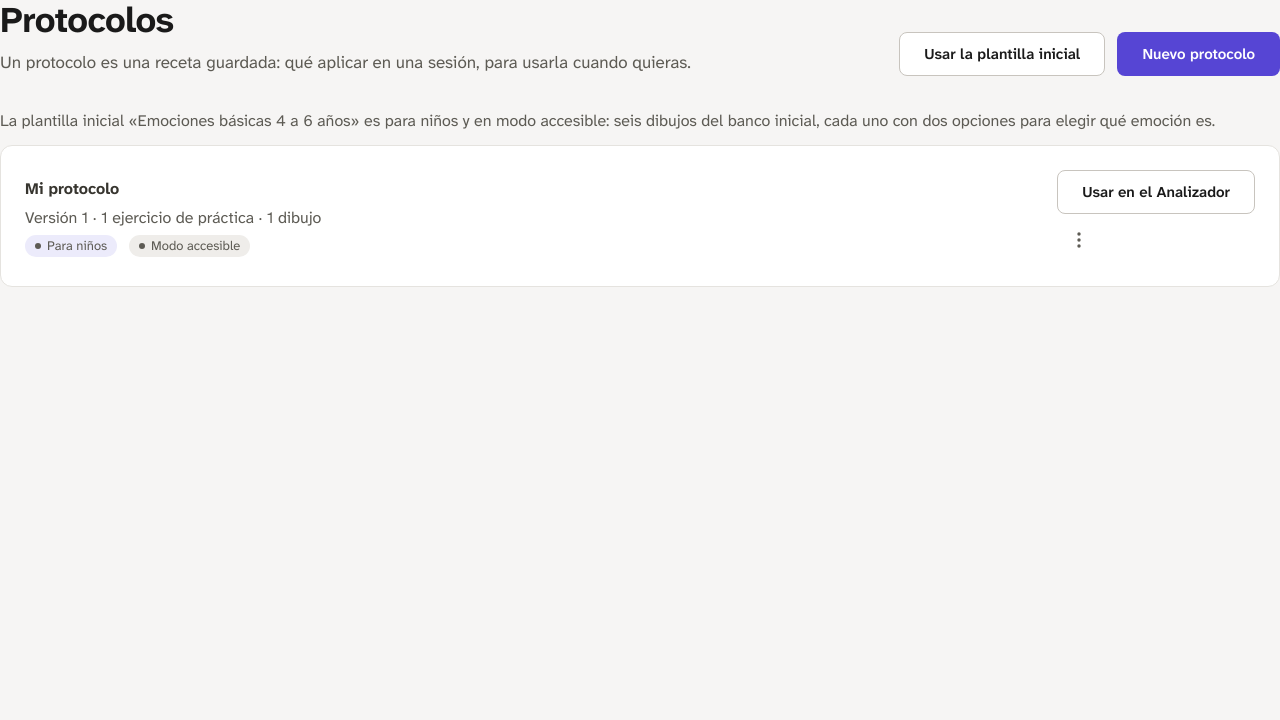
Test: menú de tres puntos de un protocolo › eliminar pide confirmación y avisa que las sesiones conservan su registro
What coordinates should you click on to do the following:
click the button named "Más acciones para «Mi protocolo»"
I would click on:
 (1079, 240)
Its box is x1=1057 y1=218 x2=1101 y2=262.
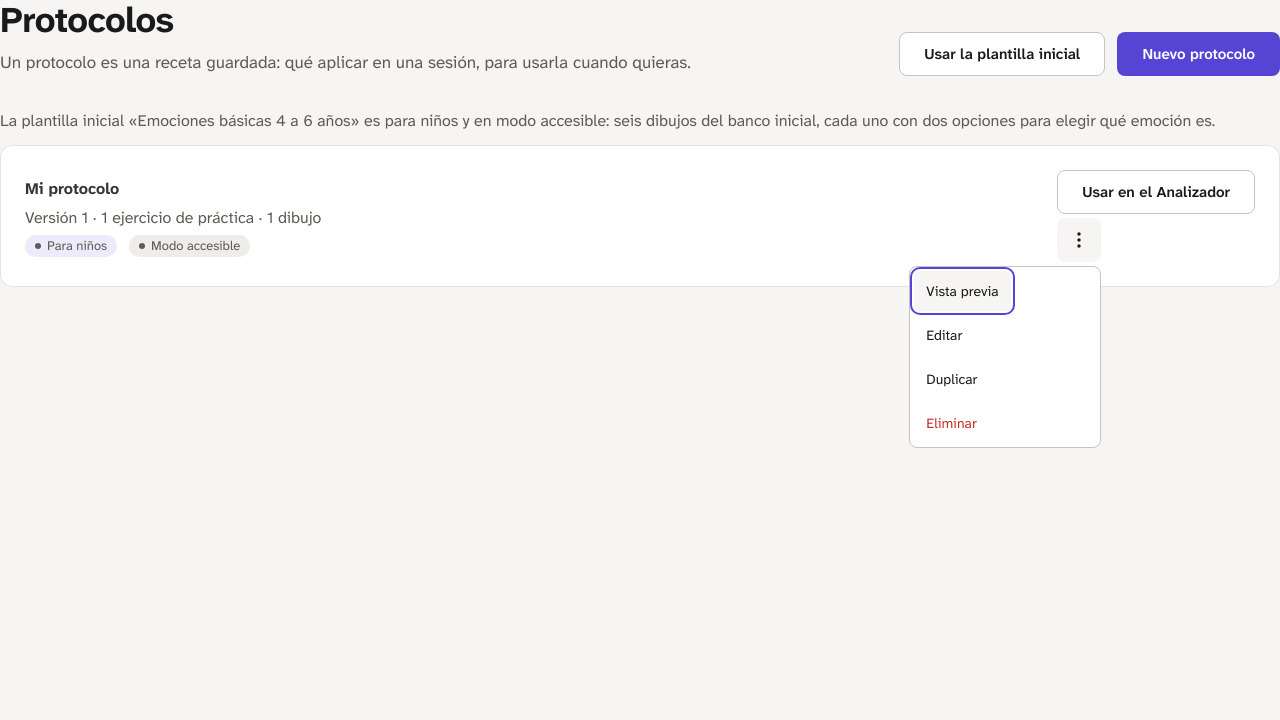
What coordinates should you click on to do the following:
click the menu item "Eliminar"
I would click on:
 (952, 423)
Its box is x1=914 y1=403 x2=989 y2=443.
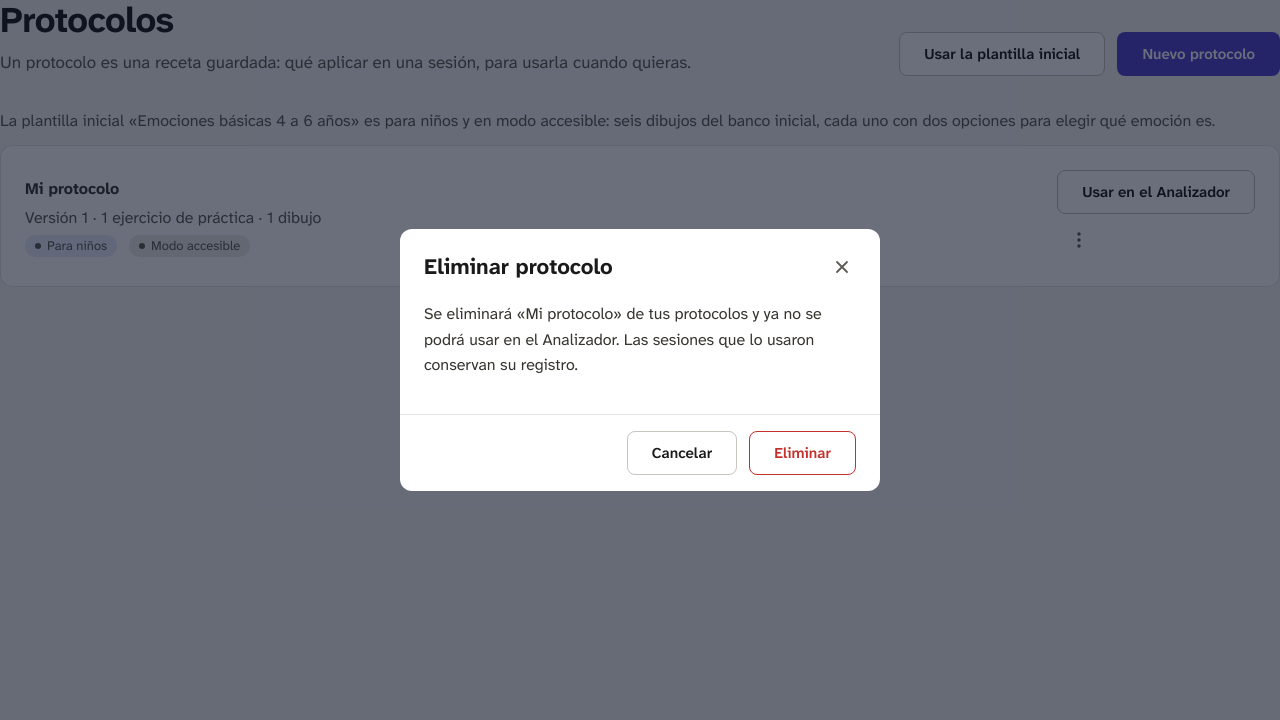
Check: the dialog "Eliminar protocolo" shows "Las sesiones que lo usaron conservan su registro", box x1=424 y1=303 x2=822 y2=375
What coordinates should you click on to do the following:
click the button "Eliminar"
I would click on:
 (803, 453)
Its box is x1=749 y1=431 x2=856 y2=475.
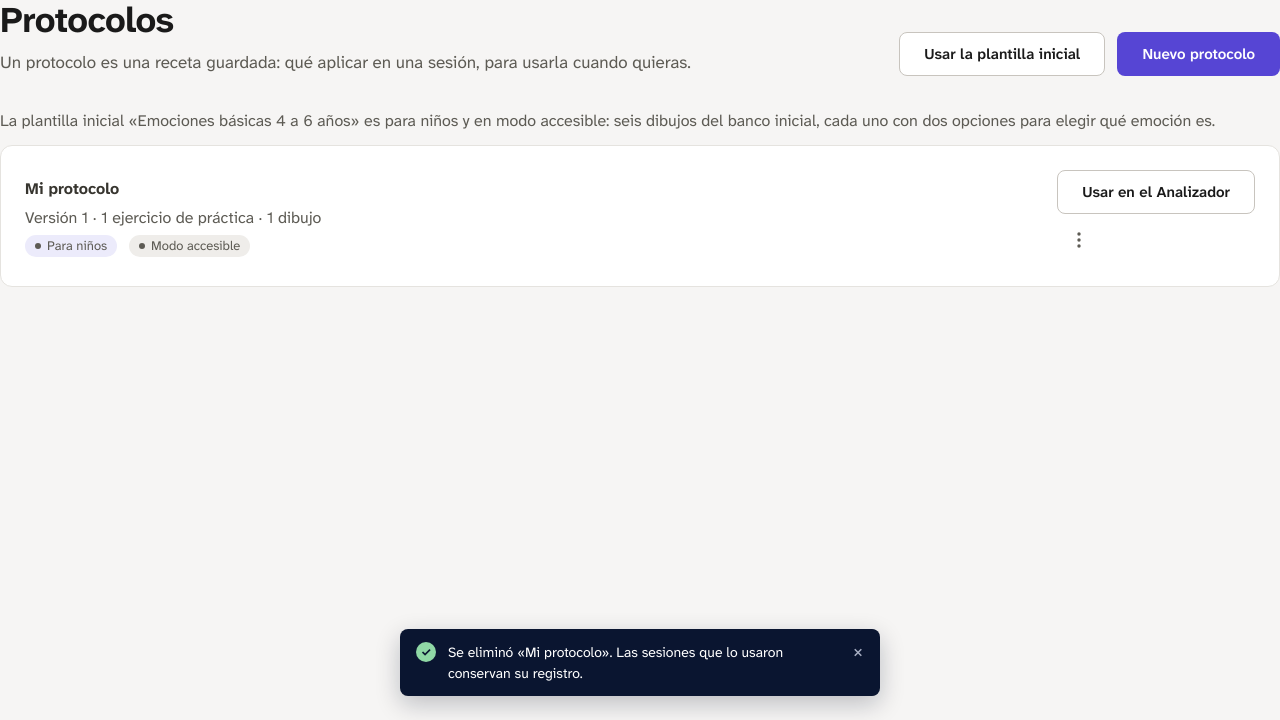
Check: the text "Se eliminó «Mi protocolo»" is shown, box x1=448 y1=643 x2=783 y2=682
